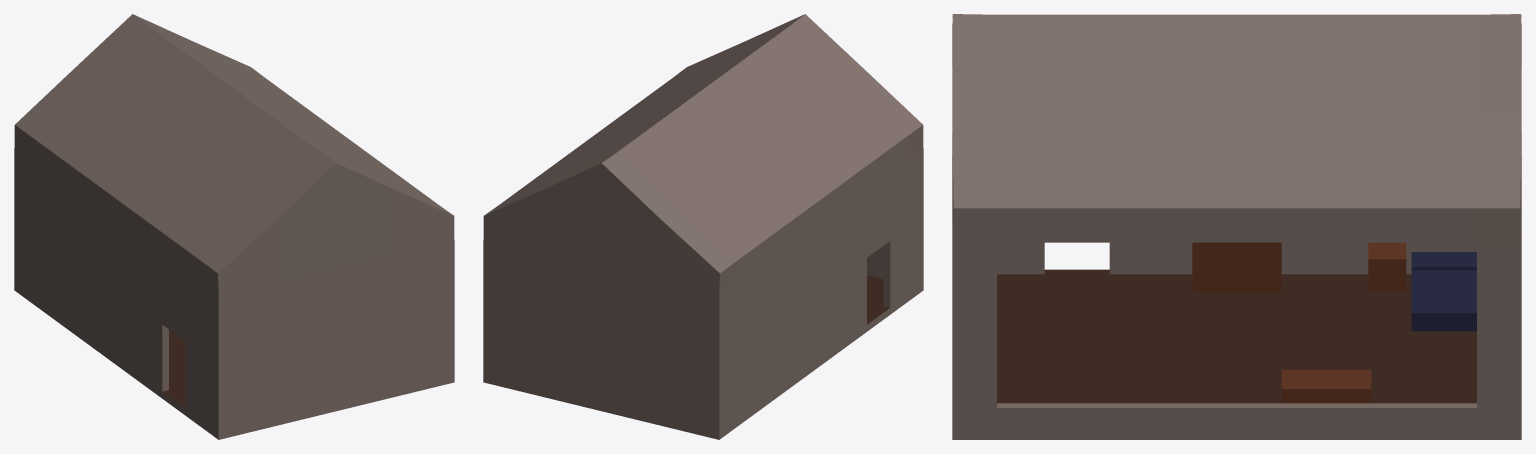
The model's file is UnityLessonHouse.fbx.
The picture shows the model from 3 angles, left to right: view 1: azimuth 30°, elevation 25°; view 2: azimuth 150°, elevation 25°; view 3: azimuth 270°, elevation 25°; orthographic projection. The views are drawn at different scales.
Visible parts, largest first — view 1: Plane, Floor; view 2: Plane, Floor; view 3: Plane, Floor, Bed, Box, Box.002, Box.001.
Part boxes in pixels (box(x1,y1,x2,y2)): Plane: box(14, 14, 454, 439); Floor: box(162, 330, 185, 408); Plane: box(483, 14, 923, 439); Floor: box(867, 275, 889, 324); Plane: box(952, 14, 1521, 439); Floor: box(997, 269, 1476, 403); Bed: box(1411, 252, 1476, 331); Box: box(1192, 242, 1281, 293); Box.002: box(1281, 369, 1371, 403); Box.001: box(1368, 242, 1406, 291).
Size of the model in its own units: 850 by 852 by 1272.
